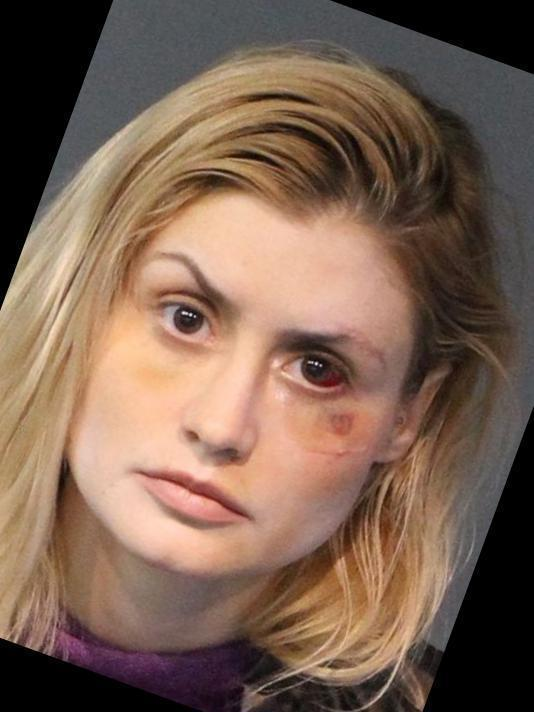Drunk: (119, 194, 396, 568)
